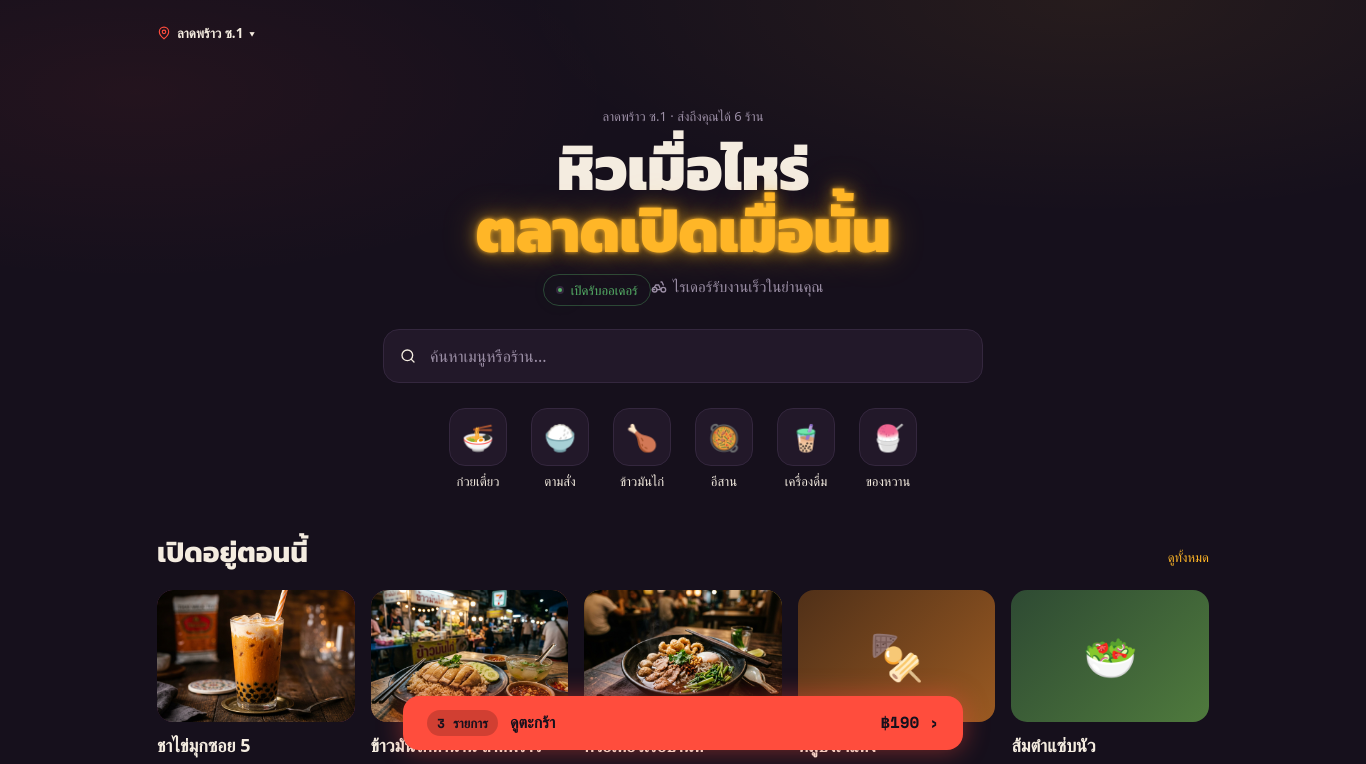
Test: Home — ค้นหา / หมวดหมู่ / Service Zone › กดชิปหมวดหมู่แล้วกรองตามหมวด
Click the button "🍜 ก๋วยเตี๋ยว" at (478, 449), box [443, 407, 513, 491]
(page scrolled)
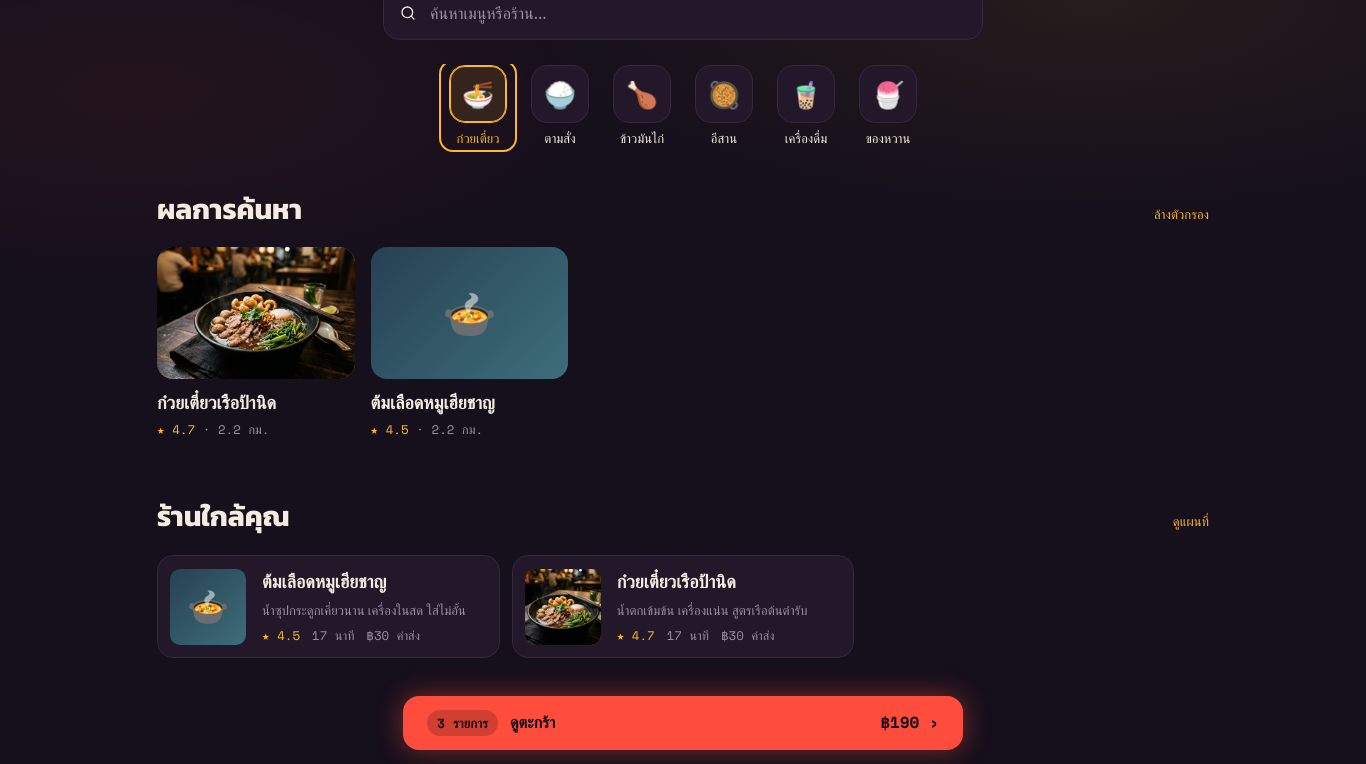
Expected: the 2nd heading "ก๋วยเตี๋ยวเรือป้านิด" is shown, [617, 569, 736, 593]
Expected: the link "ชาไข่มุกซอย 5" is gone
